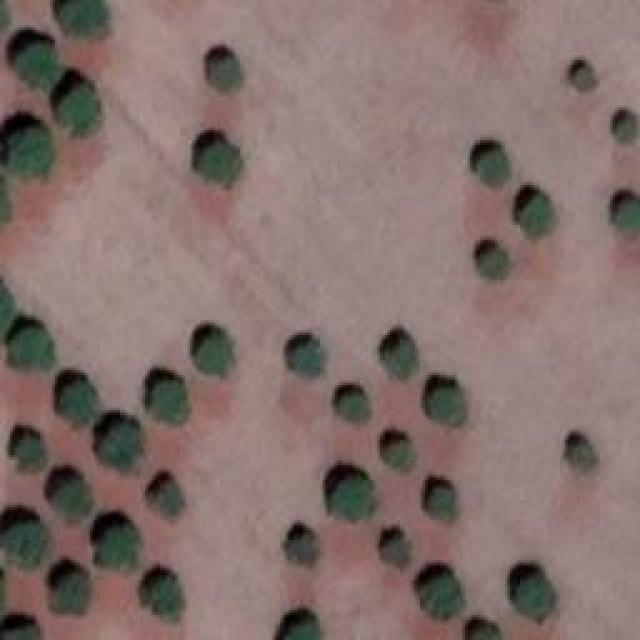Tree: (2, 130, 50, 178), (58, 85, 101, 138), (0, 523, 50, 566), (12, 45, 60, 88), (195, 143, 240, 186), (57, 380, 95, 428), (60, 0, 108, 38), (98, 425, 141, 465), (423, 575, 463, 618), (330, 478, 373, 518), (10, 330, 53, 368), (98, 525, 138, 565), (518, 575, 553, 620), (52, 483, 90, 523), (50, 573, 88, 613), (150, 380, 188, 420), (148, 578, 183, 618), (198, 335, 231, 373), (478, 150, 511, 188), (430, 390, 465, 425), (385, 340, 415, 380), (520, 198, 550, 238), (205, 58, 238, 88), (478, 250, 508, 280), (153, 478, 178, 513), (430, 488, 455, 523), (15, 435, 43, 465), (287, 533, 315, 563), (293, 345, 323, 373), (385, 440, 413, 468), (615, 200, 640, 230), (385, 535, 408, 565), (340, 395, 370, 418), (285, 622, 320, 640), (568, 445, 593, 468), (618, 118, 638, 141), (575, 68, 593, 88)
